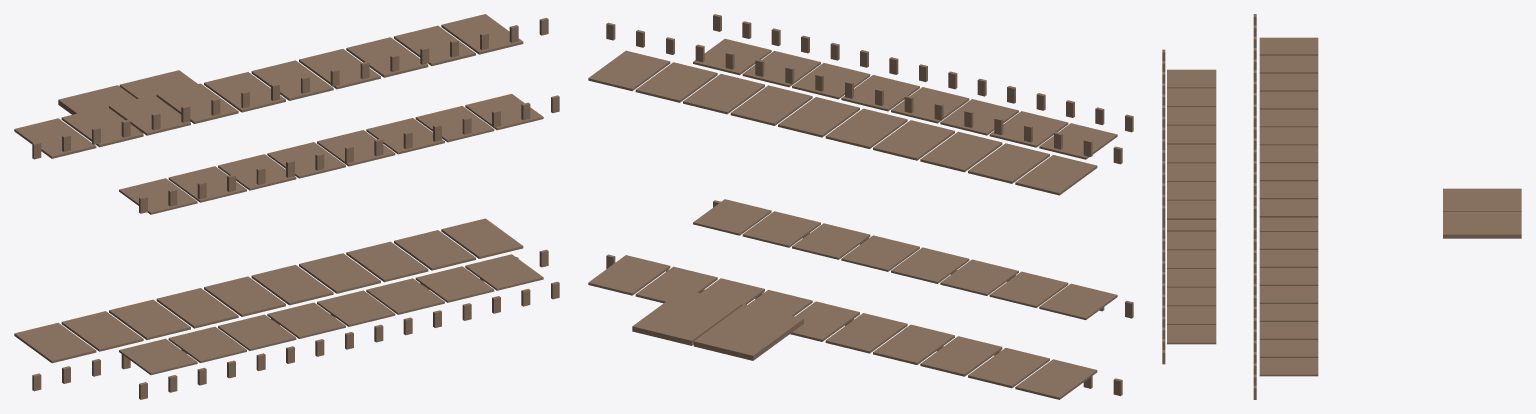
Rendered from SM_Zhengximen_AgedWood.glb.
3 renders of one model, left to right at view 1: azimuth 30°, elevation 25°; view 2: azimuth 150°, elevation 25°; view 3: azimuth 270°, elevation 25°, orthographic. The views are drawn at different scales.
Parts seen in each view (by area): view 1: world; view 2: world; view 3: world.
Part boxes in pixels (x1=…): world: x1=14, y1=14, x2=559, y2=399; world: x1=588, y1=14, x2=1133, y2=399; world: x1=1162, y1=14, x2=1521, y2=399.
Size of the model in its own units: 18.86 by 8.64 by 14.7.
